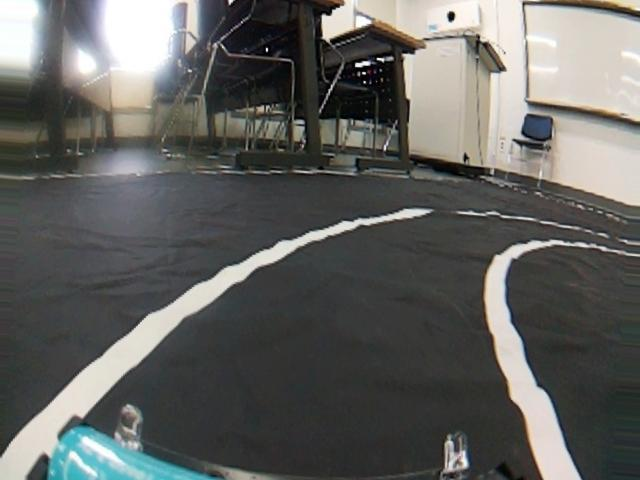right: (3, 198, 622, 479)
